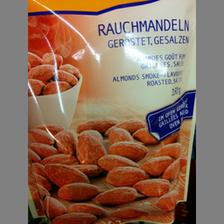Nuss: (26, 0, 194, 224)
